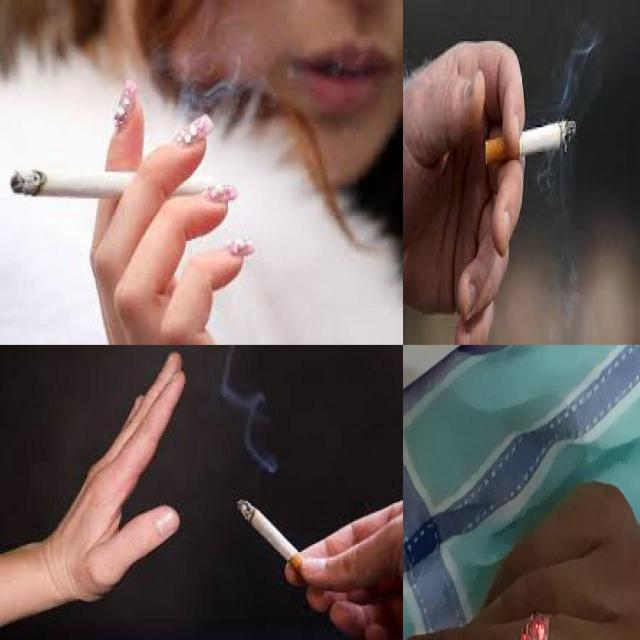cigarette: (9, 79, 252, 343), (401, 38, 589, 341), (236, 487, 401, 640)
